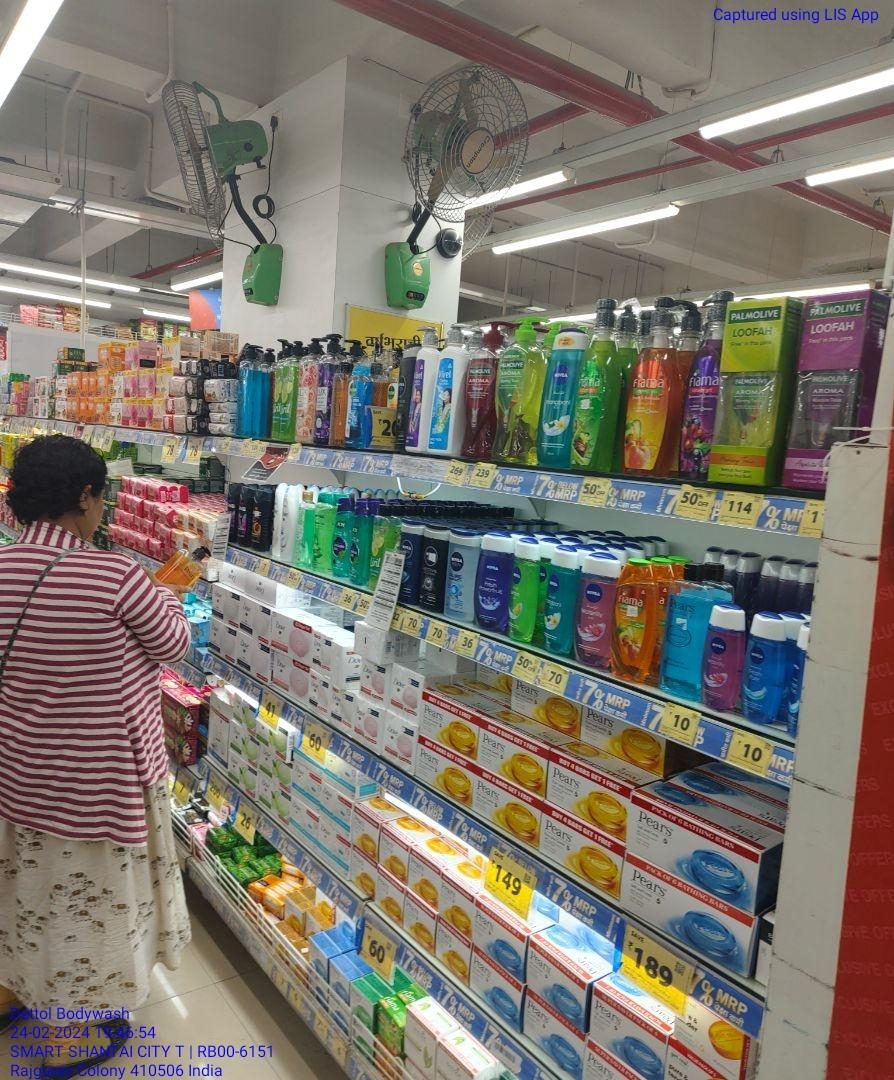Fiama_Shower_Gel_Peach_and_Avocado_250ML: (615, 559, 652, 684)
Joy_Shower_Gel_Mint_and_Eucalyptus_250ML: (352, 500, 368, 586), (333, 496, 349, 578)
Nivea_Shower_Gel_Frangipani_and_Oil_250ML: (544, 549, 573, 656)
Nivea_Shower_Gel_Waterlily_and_Oil_250ML: (577, 555, 613, 666)
